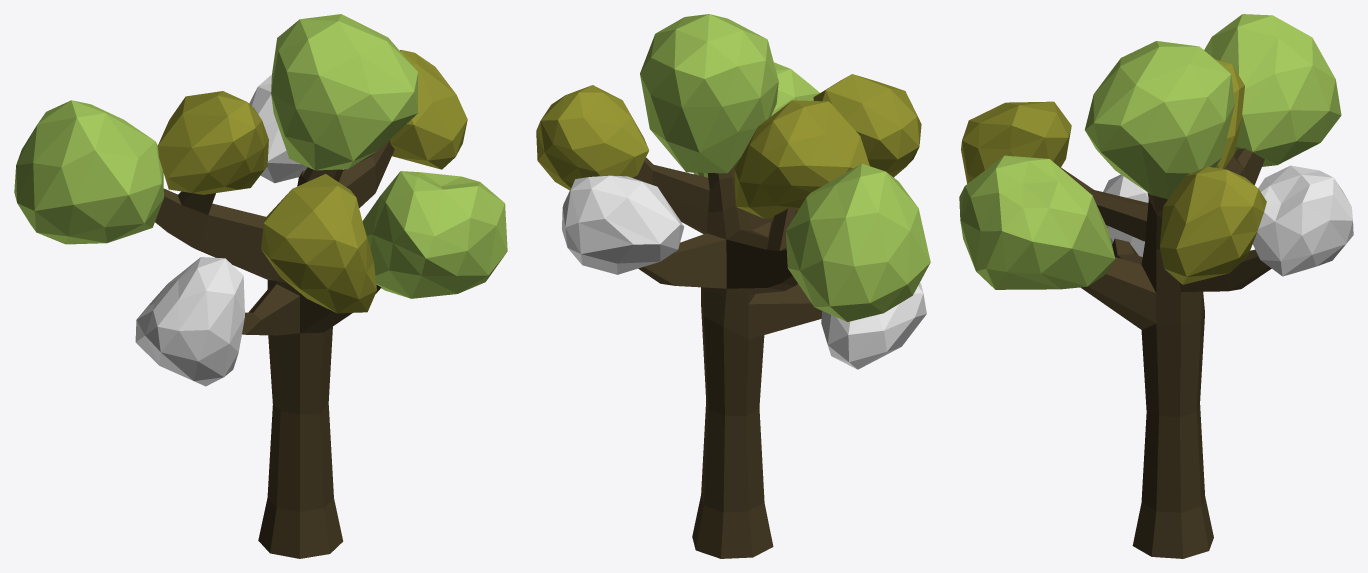
3 renders of one model, left to right at view 1: azimuth 30°, elevation 25°; view 2: azimuth 150°, elevation 25°; view 3: azimuth 270°, elevation 25°, orthographic.
Visible parts, largest first — view 1: Arbre Normal; view 2: Arbre Normal; view 3: Arbre Normal.
Boxes of the visible parts, x1,y1,x2,y2 form: Arbre Normal: (14,14,507,558); Arbre Normal: (536,14,930,558); Arbre Normal: (959,14,1353,558).
Bounding box in the file's own units: 318 × 392 × 275.
